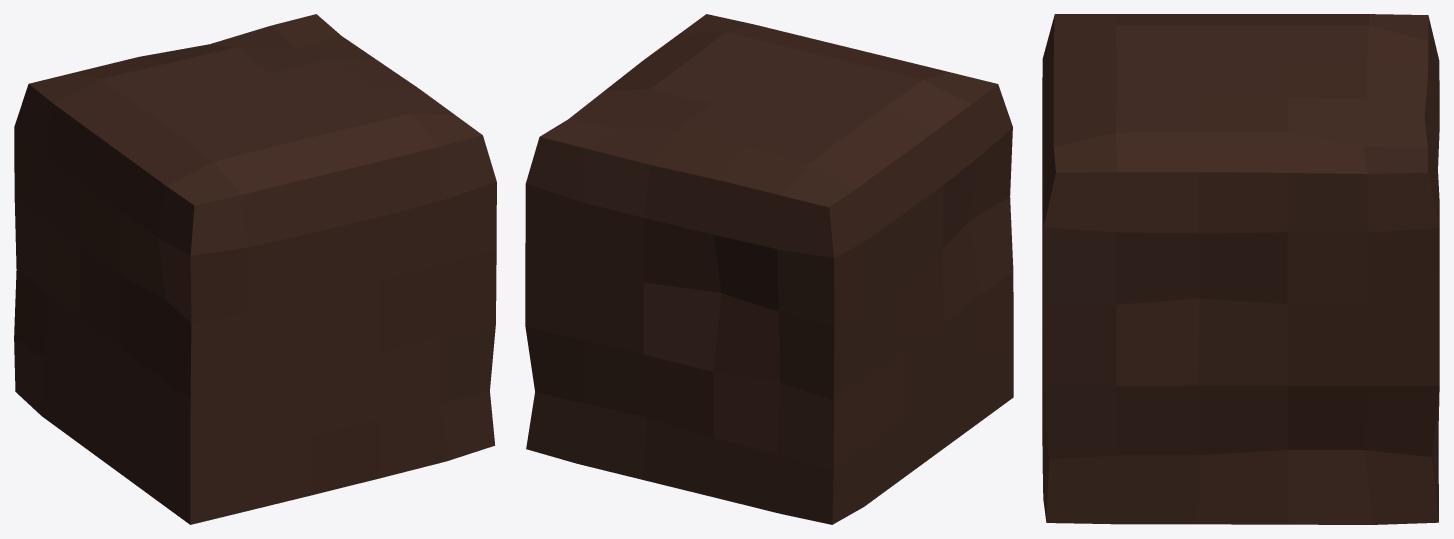
The model's file is basic_ground_3.fbx.
The picture shows the model from 3 angles, left to right: view 1: azimuth 30°, elevation 25°; view 2: azimuth 150°, elevation 25°; view 3: azimuth 270°, elevation 25°; orthographic projection. The views are drawn at different scales.
Parts seen in each view (by area): view 1: ground_3; view 2: ground_3; view 3: ground_3.
Boxes of the visible parts, x1,y1,x2,y2 form: ground_3: [14, 14, 496, 524]; ground_3: [525, 14, 1013, 524]; ground_3: [1042, 14, 1439, 524].
Size of the model in its own units: 400 by 405 by 400.
